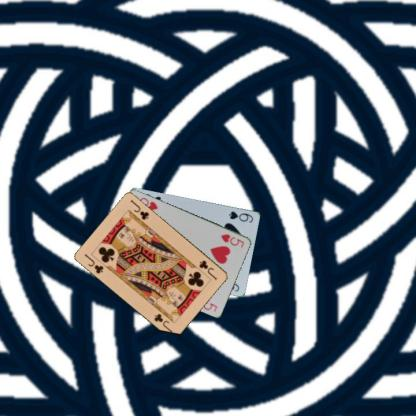5h: (218, 231, 246, 249)
6s: (226, 209, 255, 224)
Jc: (82, 251, 105, 275), (196, 258, 219, 281)
